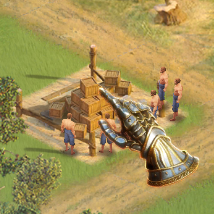Unknown: (171, 80, 181, 118)
bench: (94, 82, 201, 189), (171, 80, 181, 118)
hand: (94, 82, 201, 189)
